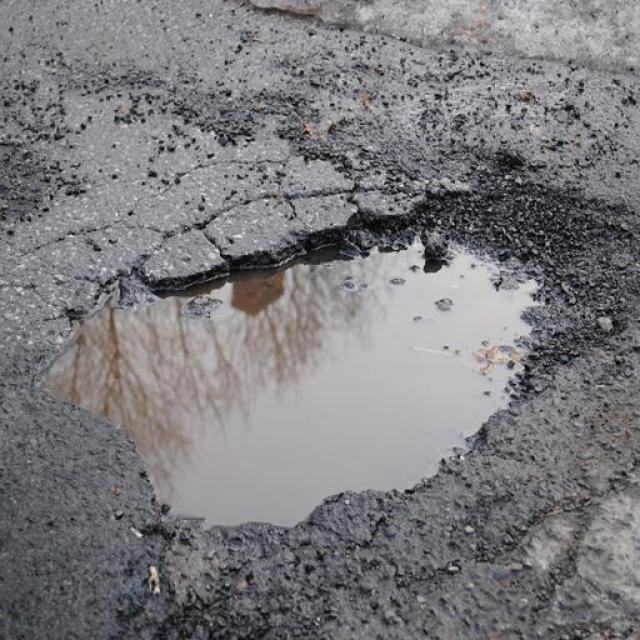puddle: (130, 267, 479, 492)
